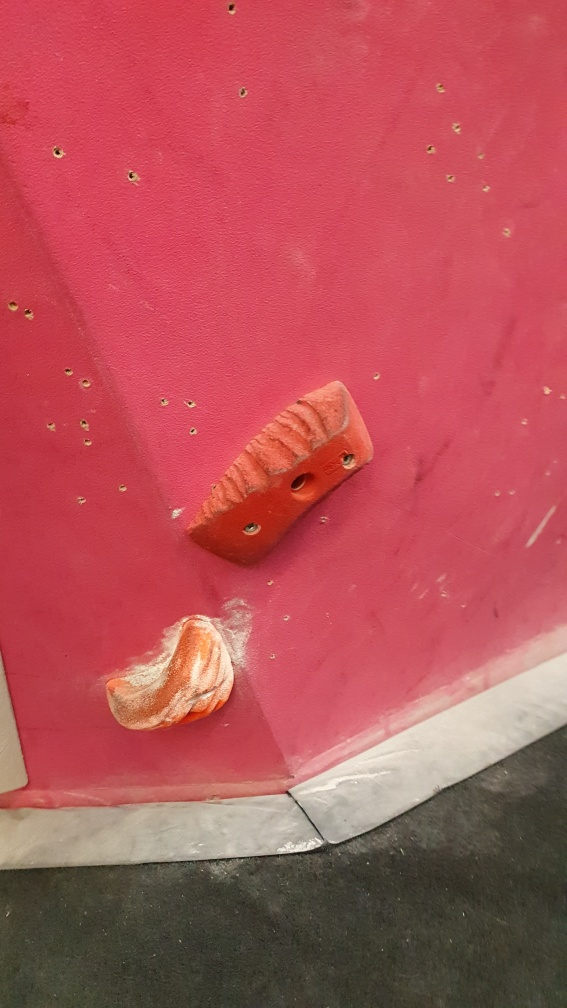Crimp: (184, 374, 378, 573)
Jug: (104, 611, 239, 737)
